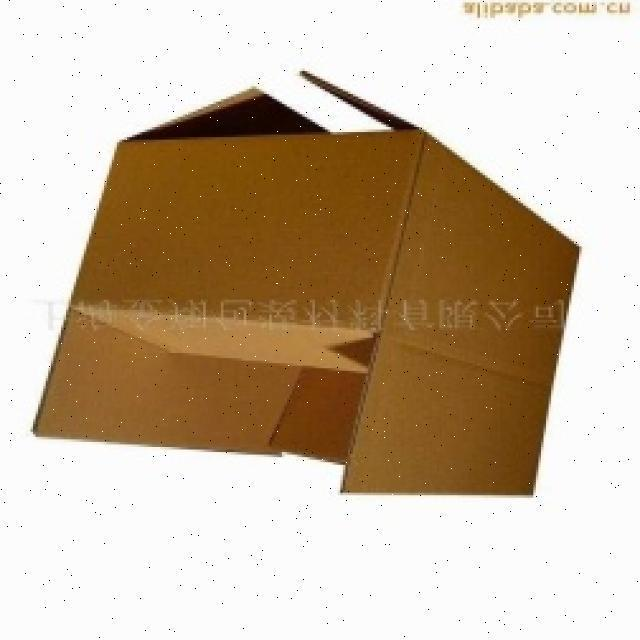box: (9, 64, 624, 550)
